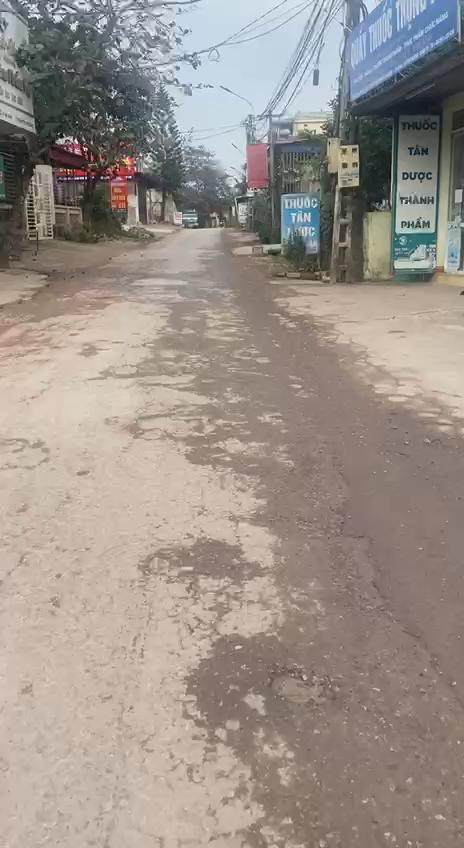pothole: (334, 476, 420, 629), (263, 651, 338, 722)
